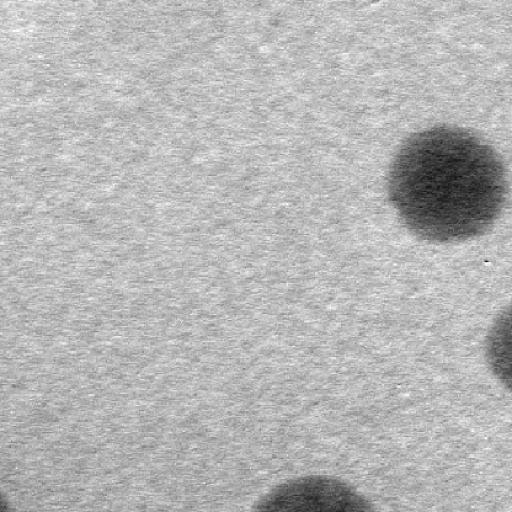Nanoparticles: (388, 129, 500, 242), (243, 471, 401, 510), (481, 304, 512, 398)
